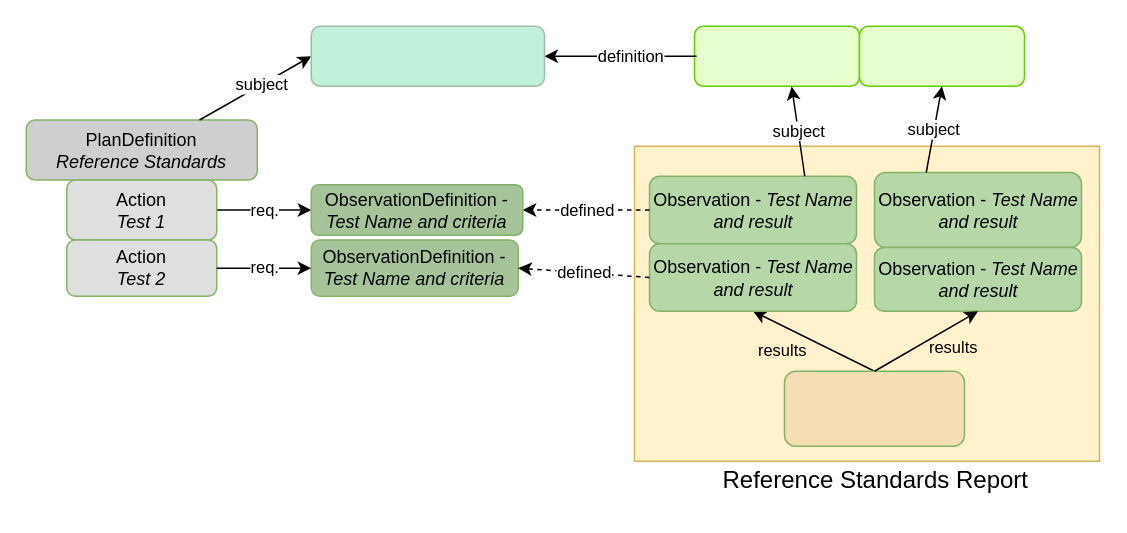
Image size: 1127x533. Some labels were removed from this diagram. Here are the shapes that lost their labels. From the top down, the centre of each, then its label:
the point at 427,55: SubstanceDefinition Stelbatolol
the point at 776,55: Substance Batch - Primary
the point at 941,55: Substance Batch - Working
the point at 873,408: DiagnosticReport List of values and conclusion
